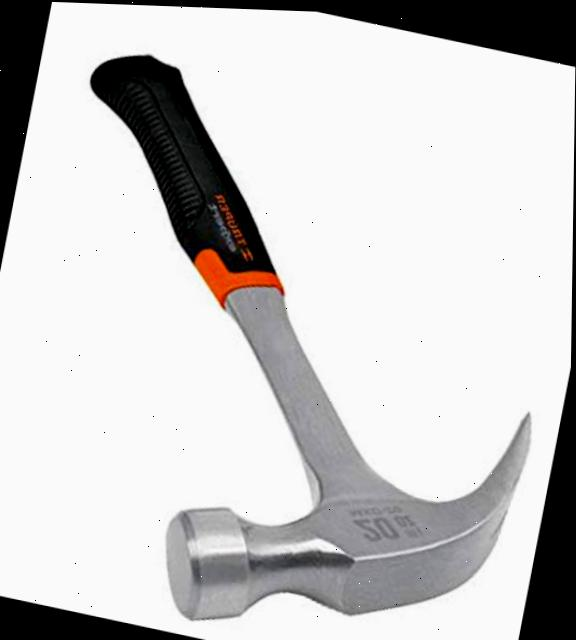hammer: (0, 32, 576, 640)
